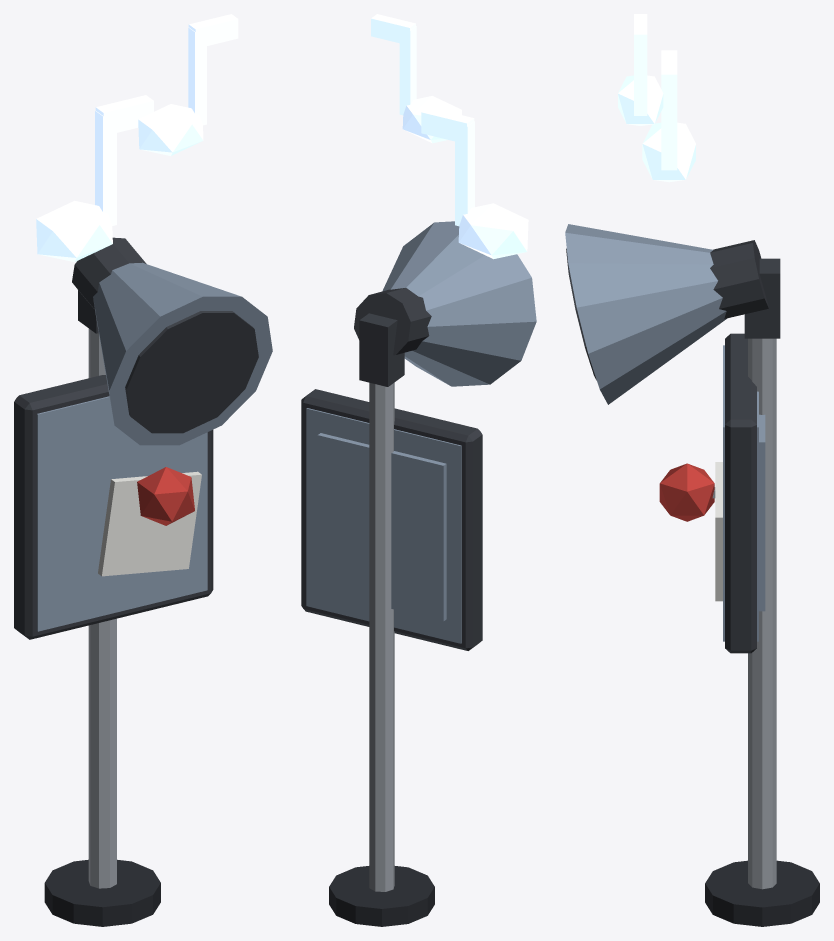
The model's file is selfservice_m2_2.glb.
3 renders of one model, left to right at view 1: azimuth 30°, elevation 25°; view 2: azimuth 150°, elevation 25°; view 3: azimuth 270°, elevation 25°, orthographic. The views are drawn at different scales.
Visible parts, largest first — view 1: selfservice_m2_2_mesh; view 2: selfservice_m2_2_mesh; view 3: selfservice_m2_2_mesh.
Boxes of the visible parts, x1,y1,x2,y2 form: selfservice_m2_2_mesh: [14, 14, 272, 926]; selfservice_m2_2_mesh: [301, 14, 536, 926]; selfservice_m2_2_mesh: [565, 14, 819, 926].
Size of the model in its own units: 0.329 by 1.39 by 0.3553.
